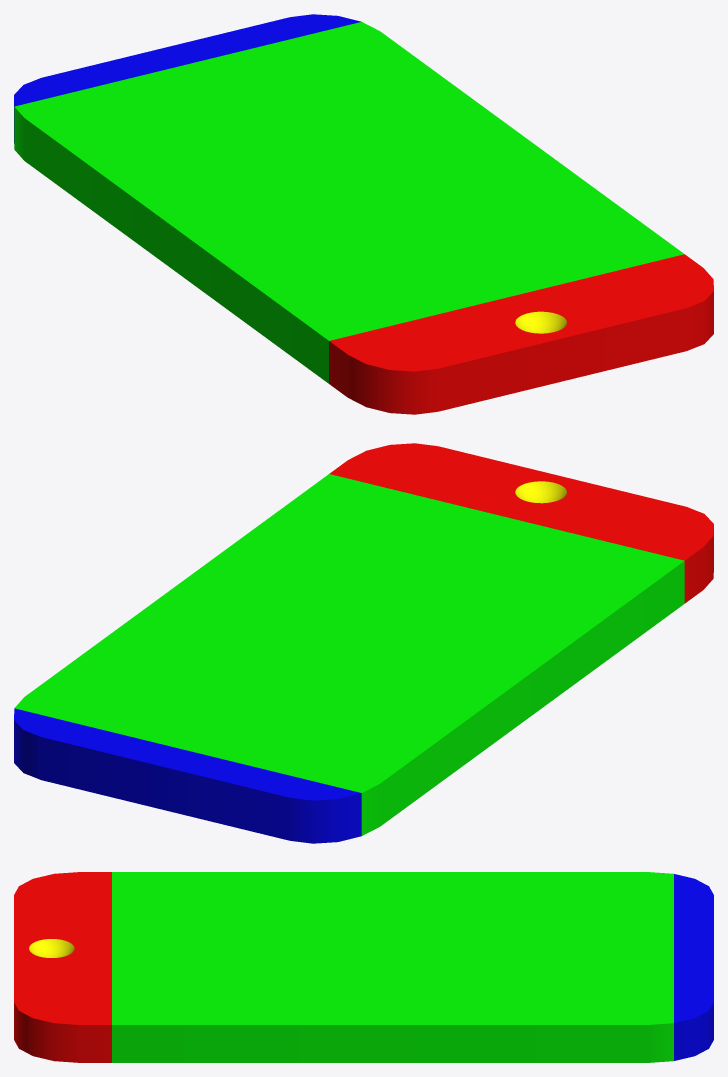
File: phone_high.fbx
3 renders of one model, top to bottom at view 1: azimuth 30°, elevation 25°; view 2: azimuth 150°, elevation 25°; view 3: azimuth 270°, elevation 25°, orthographic. The views are drawn at different scales.
Visible parts, largest first — view 1: phone_high; view 2: phone_high; view 3: phone_high.
Part boxes in pixels (<box>): phone_high: <box>14,14,713,414</box>; phone_high: <box>14,443,713,843</box>; phone_high: <box>14,872,713,1062</box>.
Bounding box in the file's own units: 346 × 40.03 × 669.
